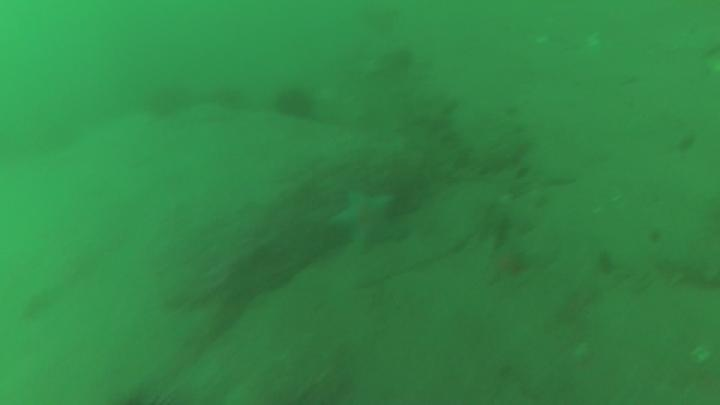echinus: (278, 90, 311, 117)
starfish: (331, 195, 406, 252), (489, 240, 525, 283)
